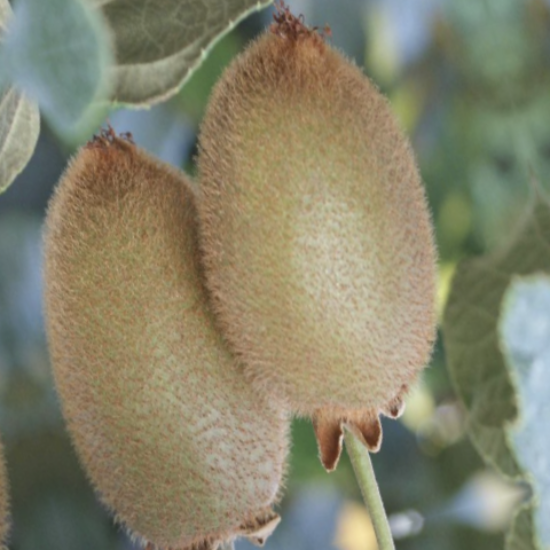kiwi: (140, 0, 491, 500), (0, 104, 338, 550)
